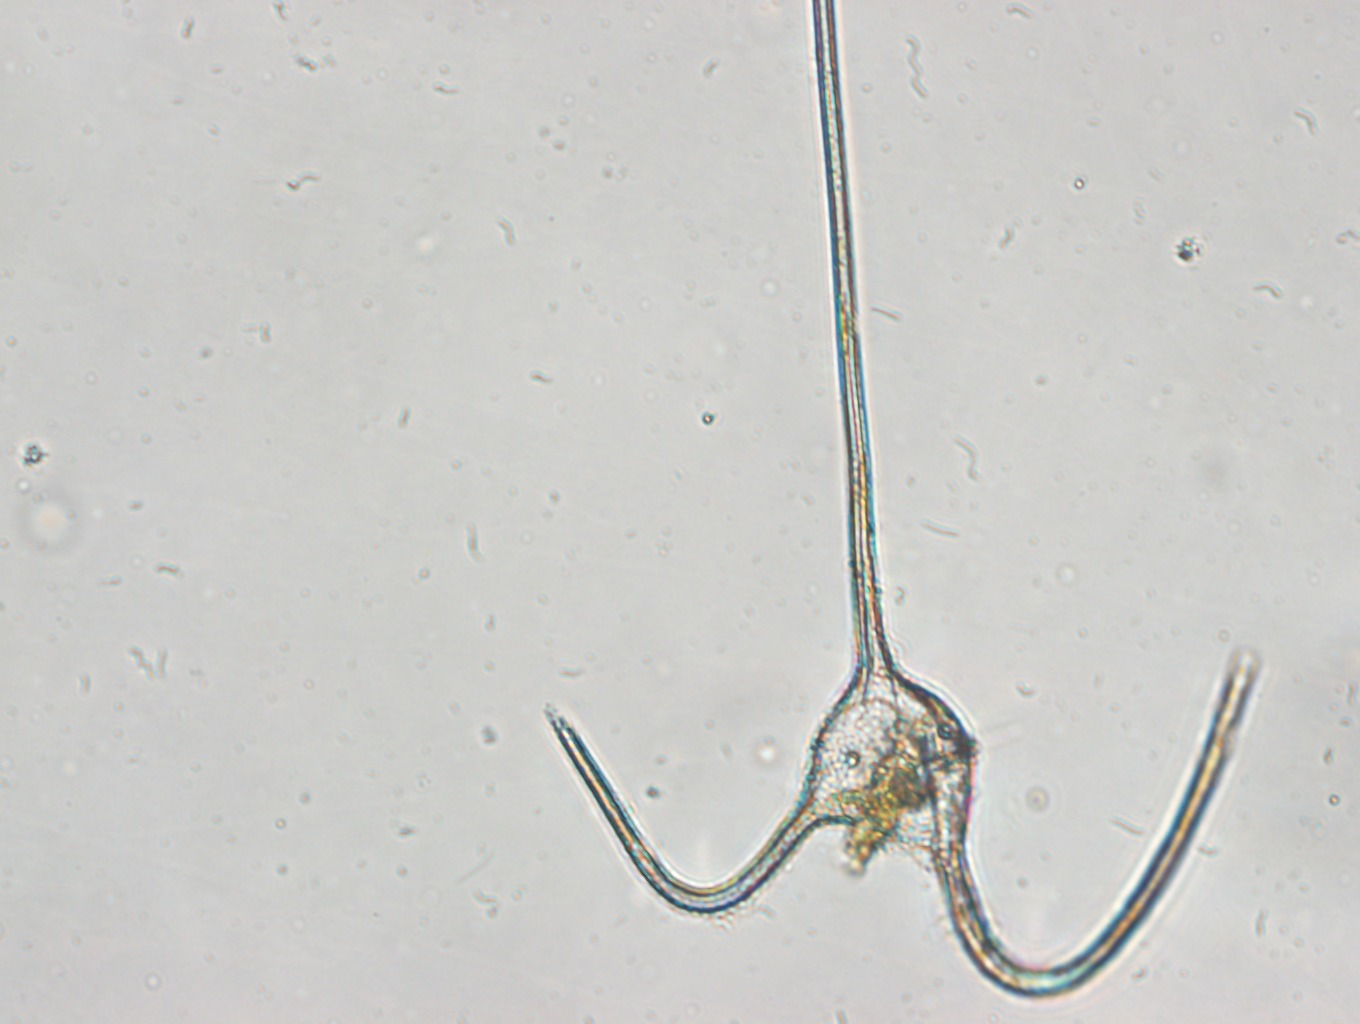ceratium trichoceros: (527, 1, 1266, 1005)
